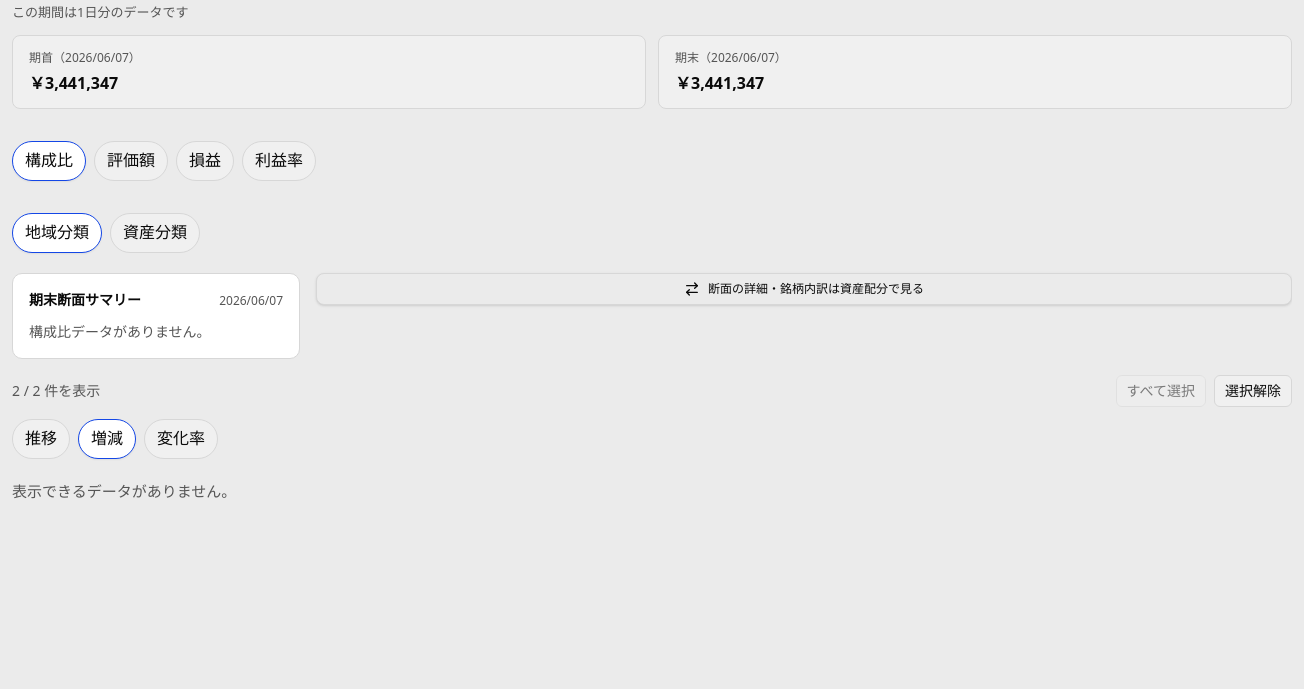
Test case: TrendsDetailPanel › renders daily labels when a calendar month is selected
Click the tab "推移": click(41, 439) left=12, top=419, right=70, bottom=459
(page scrolled)
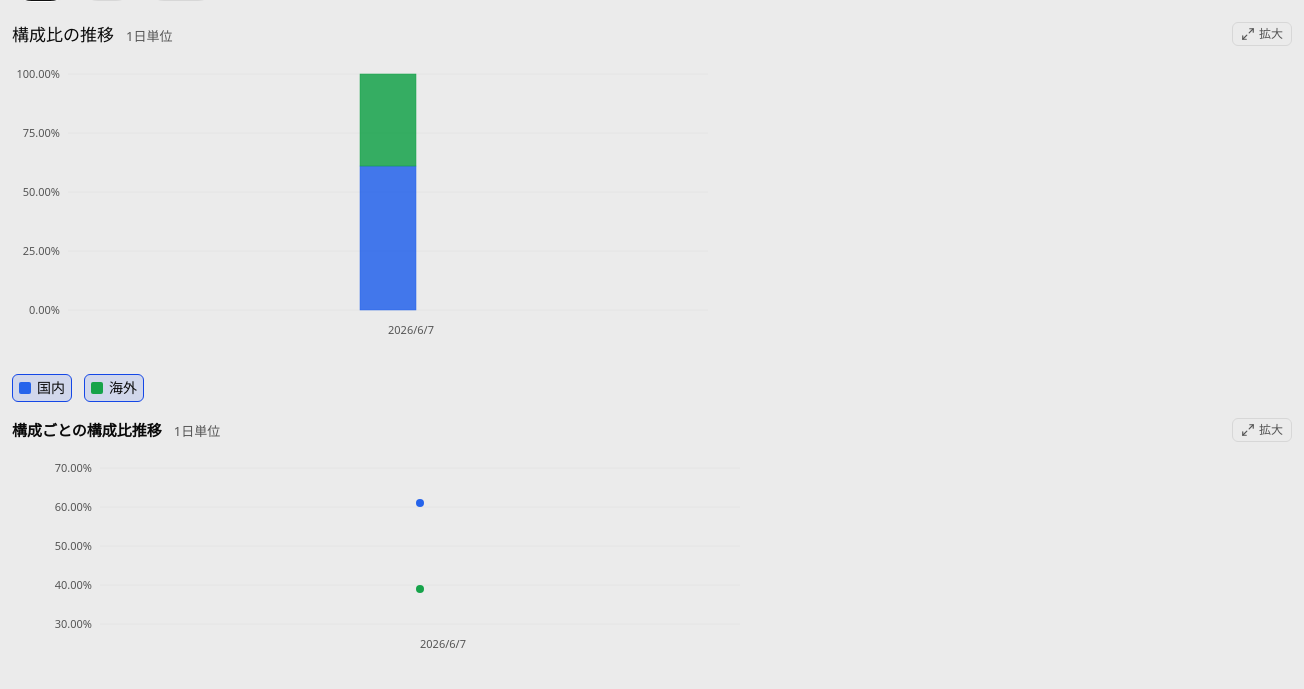
Check: the text "2026/6/7" is shown, box left=388, top=322, right=434, bottom=337
Check: the text "1日単位" next to "構成比の推移" is shown, box left=126, top=26, right=172, bottom=44
